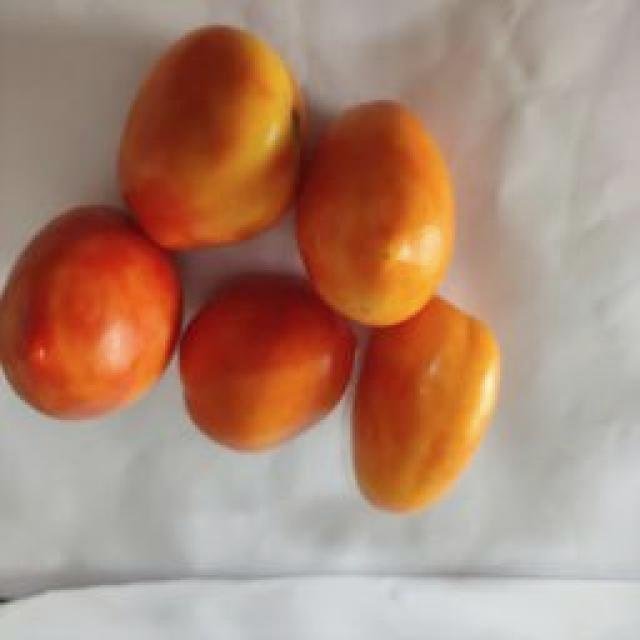tomato: (116, 25, 310, 250), (0, 208, 185, 422), (295, 101, 456, 326), (350, 296, 498, 516), (178, 280, 359, 452)
